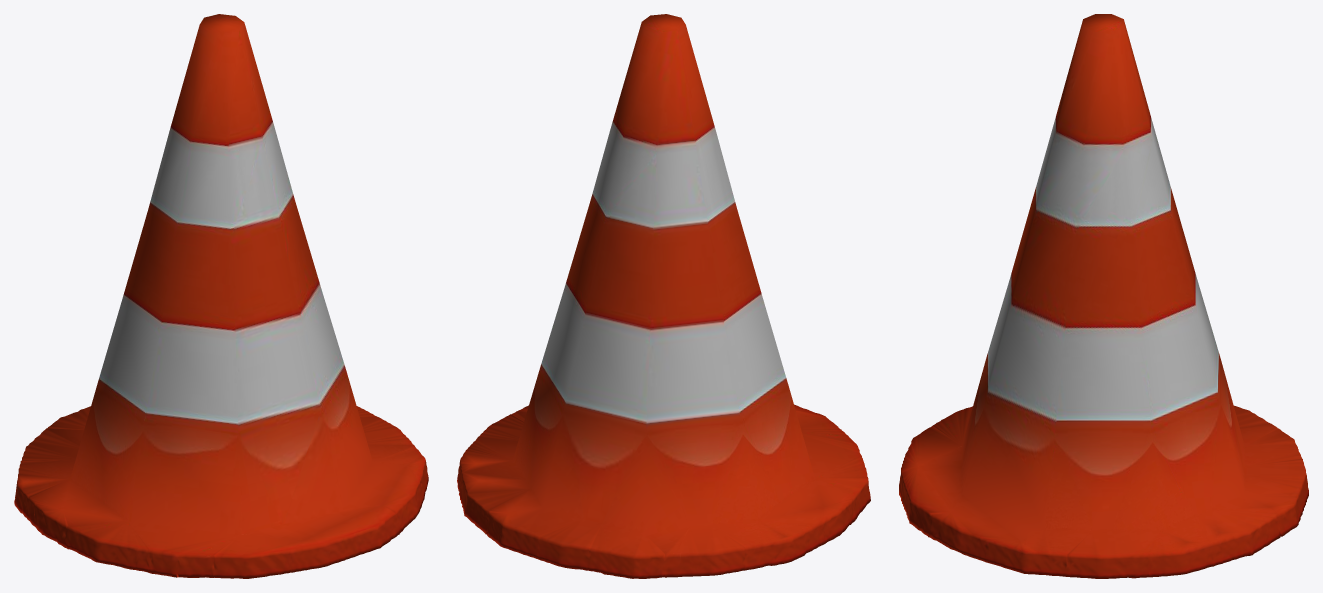
The model's file is cone_red_v2.glb.
3 views of the same model, side by side, from view 1: azimuth 30°, elevation 25°; view 2: azimuth 150°, elevation 25°; view 3: azimuth 270°, elevation 25° (orthographic).
Visible parts, largest first — view 1: tripo_node_0d338d05-db06-466d-9e74-3eea55768829; view 2: tripo_node_0d338d05-db06-466d-9e74-3eea55768829; view 3: tripo_node_0d338d05-db06-466d-9e74-3eea55768829.
Boxes of the visible parts, x1=… form: tripo_node_0d338d05-db06-466d-9e74-3eea55768829: x1=14, y1=14, x2=428, y2=578; tripo_node_0d338d05-db06-466d-9e74-3eea55768829: x1=457, y1=14, x2=870, y2=578; tripo_node_0d338d05-db06-466d-9e74-3eea55768829: x1=899, y1=14, x2=1308, y2=578.
Size of the model in its own units: 0.791 by 0.998 by 0.7871.
1 material, 1 textured.
